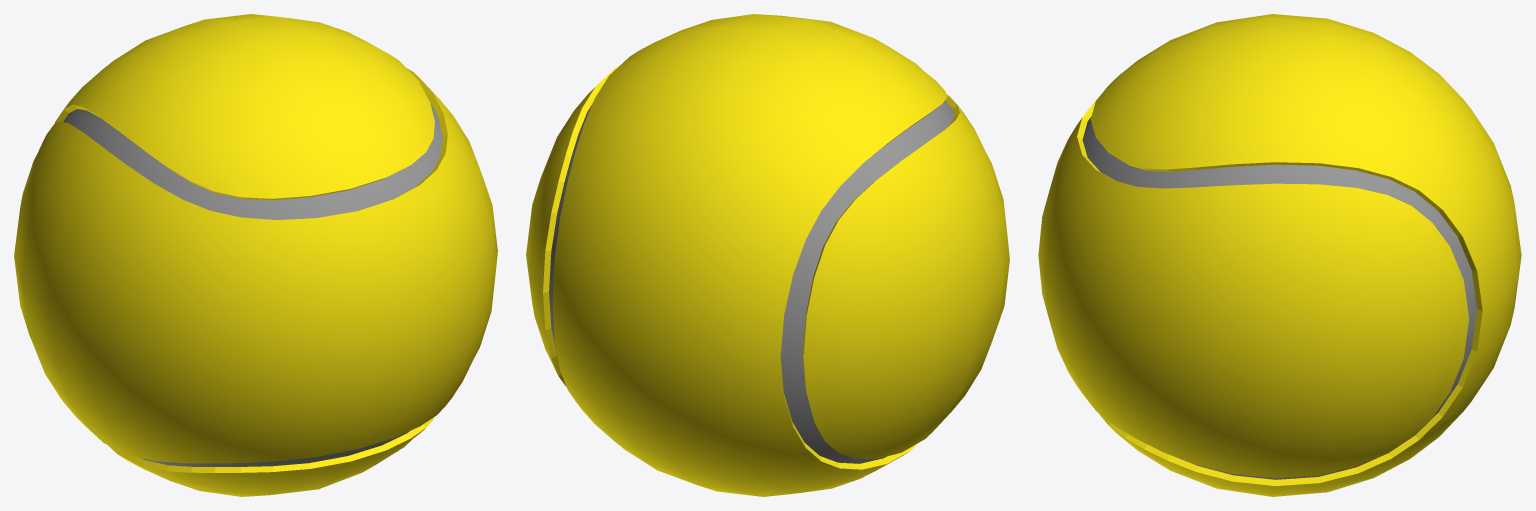
File: ball2.fbx
The picture shows the model from 3 angles, left to right: view 1: azimuth 30°, elevation 25°; view 2: azimuth 150°, elevation 25°; view 3: azimuth 270°, elevation 25°; orthographic projection.
Visible parts, largest first — view 1: Box001; view 2: Box001; view 3: Box001.
Part boxes in pixels (x1=…): Box001: x1=14, y1=14, x2=497, y2=496; Box001: x1=526, y1=14, x2=1009, y2=496; Box001: x1=1038, y1=14, x2=1521, y2=496.
Size of the model in its own units: 73.13 by 73.08 by 73.13.
